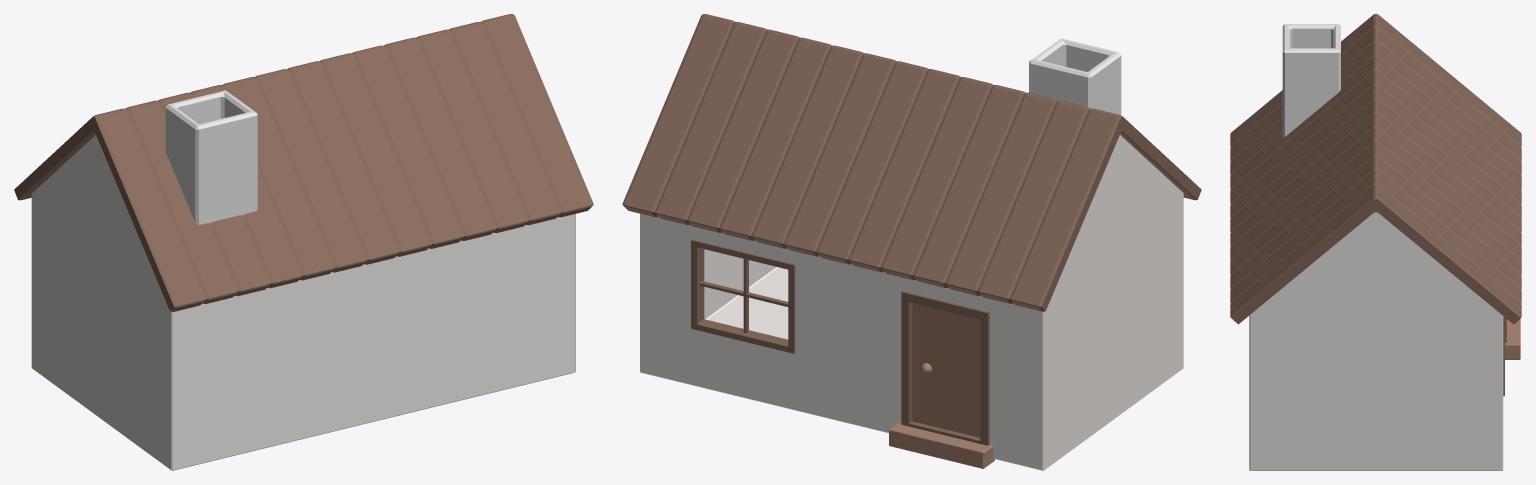
Rendered from simple_house.fbx.
The picture shows the model from 3 angles, left to right: view 1: azimuth 30°, elevation 25°; view 2: azimuth 150°, elevation 25°; view 3: azimuth 270°, elevation 25°; orthographic projection. The views are drawn at different scales.
Parts seen in each view (by area): view 1: Cube, Cube.117, Cube.123; view 2: Cube.117, Cube, Cube.006, Cube.123, Cube.009, Cube.005, Cube.004; view 3: Cube.117, Cube, Cube.123, Cube.004.
Boxes of the visible parts, left/top/right/bottom form: Cube: left=31, top=135, right=575, bottom=470; Cube.117: left=14, top=14, right=593, bottom=311; Cube.123: left=165, top=90, right=257, bottom=224; Cube.117: left=622, top=14, right=1201, bottom=311; Cube: left=640, top=135, right=1183, bottom=470; Cube.006: left=912, top=303, right=980, bottom=437; Cube.123: left=1029, top=38, right=1121, bottom=114; Cube.009: left=691, top=239, right=795, bottom=353; Cube.005: left=901, top=291, right=989, bottom=445; Cube.004: left=889, top=422, right=994, bottom=468; Cube.117: left=1230, top=14, right=1521, bottom=324; Cube: left=1249, top=212, right=1503, bottom=470; Cube.123: left=1282, top=24, right=1340, bottom=137; Cube.004: left=1505, top=318, right=1520, bottom=359.
Size of the model in its own units: 10.67 by 7.09 by 7.85.
